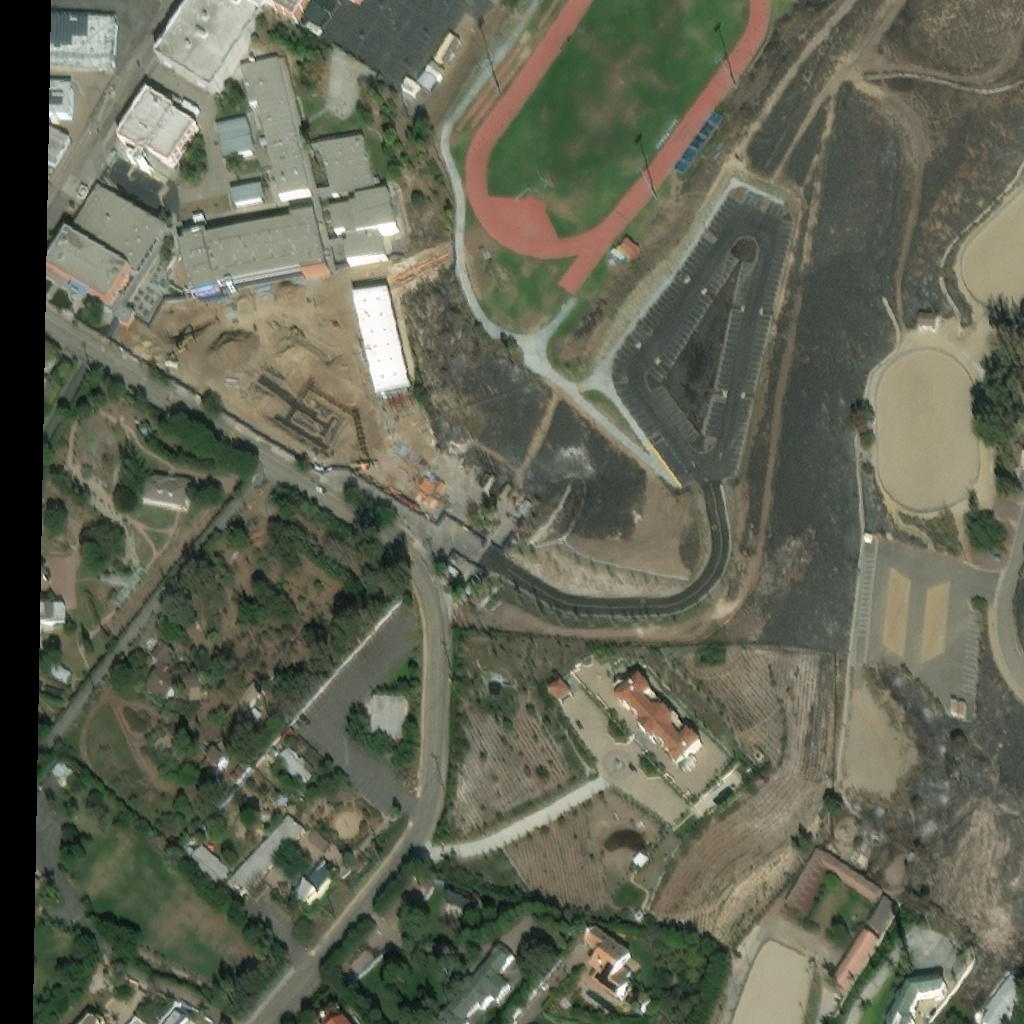0 no-damage: (177, 182, 398, 305), (241, 54, 376, 198), (46, 180, 175, 310), (156, 0, 318, 96), (306, 0, 493, 83), (174, 811, 306, 907), (613, 668, 701, 763), (351, 283, 413, 399), (432, 940, 517, 1023), (783, 848, 881, 917), (117, 88, 200, 169), (581, 925, 645, 993), (50, 12, 118, 71), (141, 640, 200, 707), (828, 922, 876, 990), (672, 107, 722, 169), (888, 978, 946, 1023), (973, 972, 1023, 1023), (141, 473, 193, 511), (404, 476, 451, 518), (293, 860, 336, 903), (373, 693, 408, 736), (201, 737, 237, 774), (48, 125, 72, 179), (229, 678, 262, 714), (280, 747, 312, 784), (864, 889, 894, 928), (49, 81, 74, 122), (220, 133, 256, 161), (231, 182, 267, 207), (216, 117, 251, 141), (40, 600, 66, 630), (50, 757, 75, 785), (161, 1007, 199, 1023), (315, 1007, 350, 1023), (435, 34, 454, 63), (546, 677, 569, 700), (308, 826, 330, 848), (153, 731, 175, 752), (511, 485, 529, 507), (480, 470, 498, 489), (419, 71, 436, 91), (53, 664, 72, 681), (261, 746, 279, 763), (402, 79, 419, 95), (125, 1013, 149, 1023), (497, 480, 512, 494), (426, 65, 442, 78), (189, 688, 202, 702), (193, 214, 206, 228), (251, 707, 263, 719), (284, 631, 298, 641), (431, 61, 443, 72), (232, 772, 242, 782), (351, 0, 364, 5)
